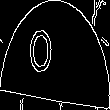O_S: (42, 27, 68, 83)
